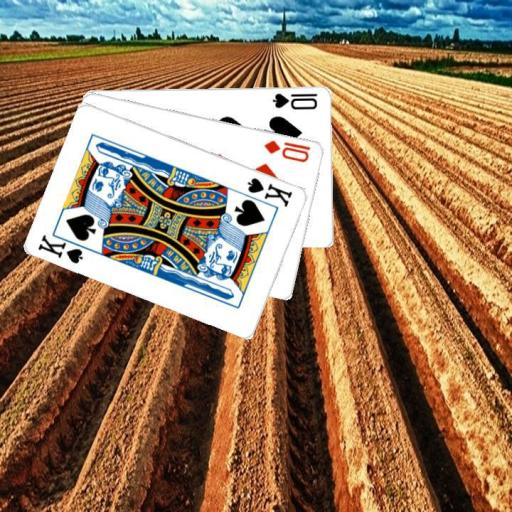10D: (261, 137, 312, 164)
10S: (270, 90, 320, 110)
KS: (36, 229, 93, 265), (244, 175, 294, 209)
